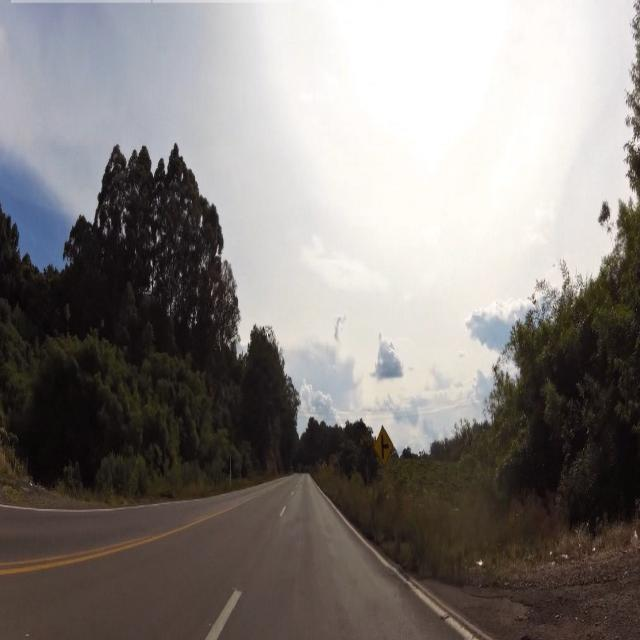A-7b: (374, 420, 398, 467)
